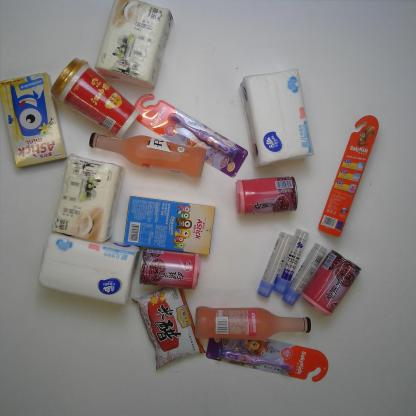Alcohol: (85, 130, 205, 178), (190, 304, 315, 344)
Canned Food: (299, 248, 363, 319), (234, 174, 302, 218), (138, 245, 204, 290)
Dessert: (0, 72, 68, 170), (121, 195, 217, 258)
Instant Drink: (50, 56, 141, 140)
Personal Hygiene: (135, 92, 250, 181), (316, 114, 381, 239), (201, 335, 328, 382)
Seasoner: (128, 287, 211, 371)
Stationery: (281, 242, 328, 306), (257, 230, 294, 299), (274, 227, 310, 296)
Tissue: (34, 232, 143, 310), (240, 67, 317, 168), (94, 0, 174, 95), (49, 152, 124, 245)
